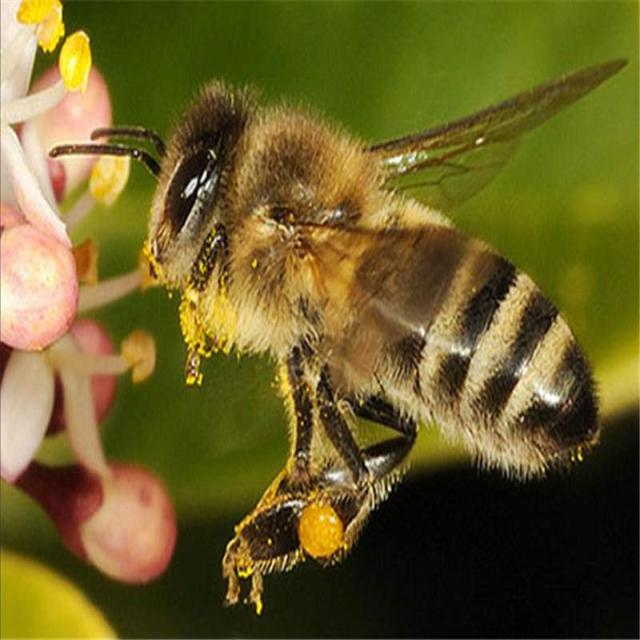Lasioglossum: (80, 48, 626, 615)
